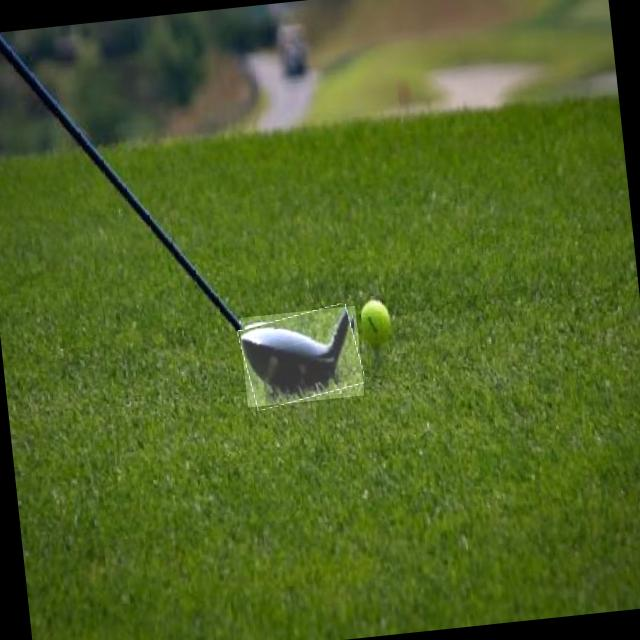club head: (238, 305, 364, 407)
